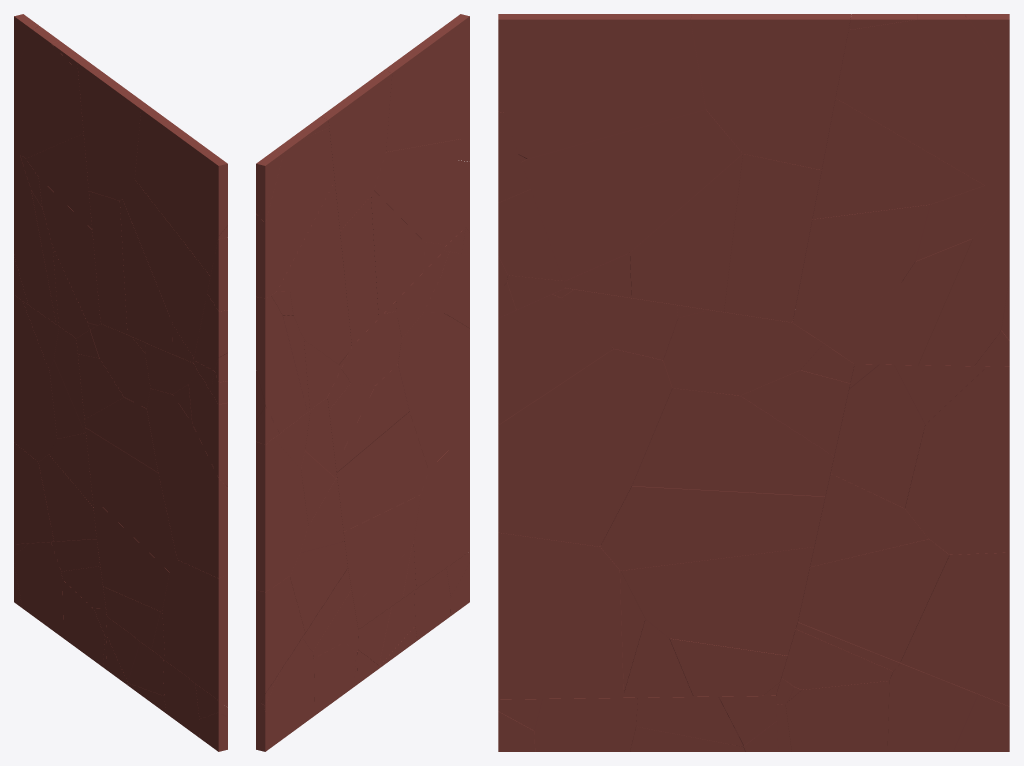
File: wall02_Cx.fbx
3 renders of one model, left to right at view 1: azimuth 30°, elevation 25°; view 2: azimuth 150°, elevation 25°; view 3: azimuth 270°, elevation 25°, orthographic. The views are drawn at different scales.
Visible parts, largest first — view 1: wall02_C.001_cell.003_cell.005, wall02_C.001_cell.004_cell.006, wall02_C.001_cell.003_cell.008, wall02_C.001_cell.006_cell.007, wall02_C.001_cell.004_cell.002, wall02_C.001_cell.003_cell.013, wall02_C.001_cell.004_cell.004, wall02_C.001_cell.002_cell.007, wall02_C.001_cell.003_cell.010, wall02_C.001_cell.006_cell.009, wall02_C.001_cell.004_cell, wall02_C.001_cell.004_cell.001 (+36 smaller); view 2: wall02_C.001_cell.004_cell.006, wall02_C.001_cell.003_cell.005, wall02_C.001_cell.006_cell.007, wall02_C.001_cell.004_cell.002, wall02_C.001_cell.003_cell.013, wall02_C.001_cell.002_cell.007, wall02_C.001_cell.004_cell.004, wall02_C.001_cell.003_cell.008, wall02_C.001_cell.003_cell.010, wall02_C.001_cell.006_cell.011, wall02_C.001_cell.006_cell.009, wall02_C.001_cell.004_cell (+37 smaller); view 3: wall02_C.001_cell.004_cell.006, wall02_C.001_cell.003_cell.005, wall02_C.001_cell.006_cell.007, wall02_C.001_cell.004_cell.004, wall02_C.001_cell.003_cell.008, wall02_C.001_cell.004_cell.002, wall02_C.001_cell.003_cell.015, wall02_C.001_cell.002_cell.007, wall02_C.001_cell.003_cell.010, wall02_C.001_cell.003_cell.013, wall02_C.001_cell.004_cell.001, wall02_C.001_cell.002_cell.004 (+35 smaller).
Boxes of the visible parts, x1,y1,x2,y2 form: wall02_C.001_cell.003_cell.005: (147,389,227,578); wall02_C.001_cell.004_cell.006: (134,107,227,276); wall02_C.001_cell.003_cell.008: (162,560,227,707); wall02_C.001_cell.006_cell.007: (14,26,83,158); wall02_C.001_cell.004_cell.002: (77,60,150,200); wall02_C.001_cell.003_cell.013: (85,428,177,572); wall02_C.001_cell.004_cell.004: (122,179,210,357); wall02_C.001_cell.002_cell.007: (14,295,57,461); wall02_C.001_cell.003_cell.010: (92,497,169,611); wall02_C.001_cell.006_cell.009: (38,177,100,325); wall02_C.001_cell.004_cell: (120,199,172,353); wall02_C.001_cell.004_cell.001: (89,191,127,334); wall02_C.001_cell.004_cell.006: (384,14,469,151); wall02_C.001_cell.003_cell.005: (398,312,469,469); wall02_C.001_cell.006_cell.007: (256,127,334,298); wall02_C.001_cell.004_cell.002: (320,70,392,230); wall02_C.001_cell.003_cell.013: (336,412,428,531); wall02_C.001_cell.002_cell.007: (256,438,308,591); wall02_C.001_cell.004_cell.004: (374,139,461,244); wall02_C.001_cell.003_cell.008: (413,429,469,588); wall02_C.001_cell.003_cell.010: (343,495,420,605); wall02_C.001_cell.006_cell.011: (256,296,307,433); wall02_C.001_cell.006_cell.009: (290,265,351,364); wall02_C.001_cell.004_cell: (371,190,424,318); wall02_C.001_cell.004_cell.006: (498,14,705,158); wall02_C.001_cell.003_cell.005: (498,349,672,546); wall02_C.001_cell.006_cell.007: (835,14,1009,185); wall02_C.001_cell.004_cell.004: (521,109,742,281); wall02_C.001_cell.003_cell.008: (498,532,623,699); wall02_C.001_cell.004_cell.002: (690,14,851,169); wall02_C.001_cell.003_cell.015: (632,388,833,496); wall02_C.001_cell.002_cell.007: (905,366,1009,554); wall02_C.001_cell.003_cell.010: (621,547,814,655); wall02_C.001_cell.003_cell.013: (600,486,825,570); wall02_C.001_cell.004_cell.001: (724,154,821,322); wall02_C.001_cell.002_cell.004: (900,552,1009,706).
Bounding box in the file's own units: 20.22 × 1222 × 773.
